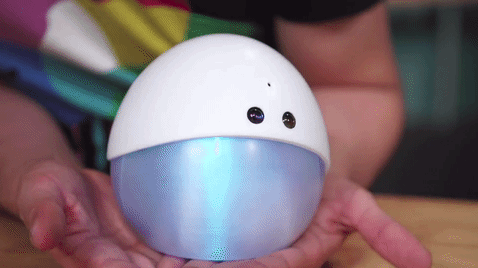mira_robot: (106, 33, 330, 260)
